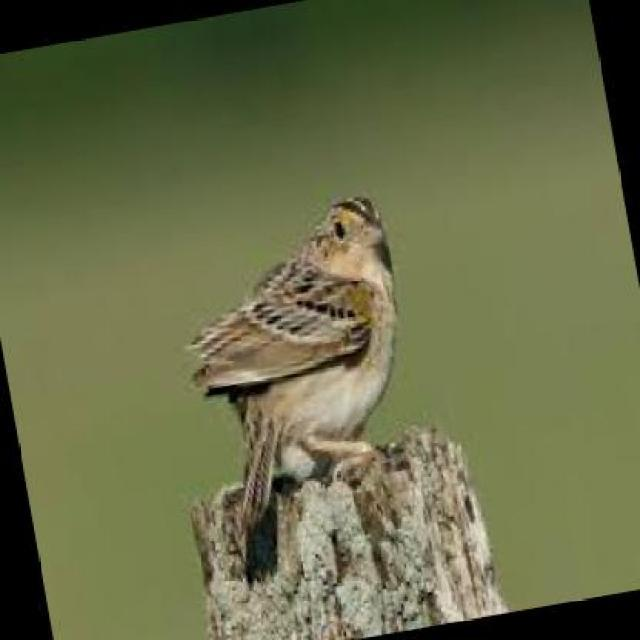Bird: (185, 195, 424, 577)
